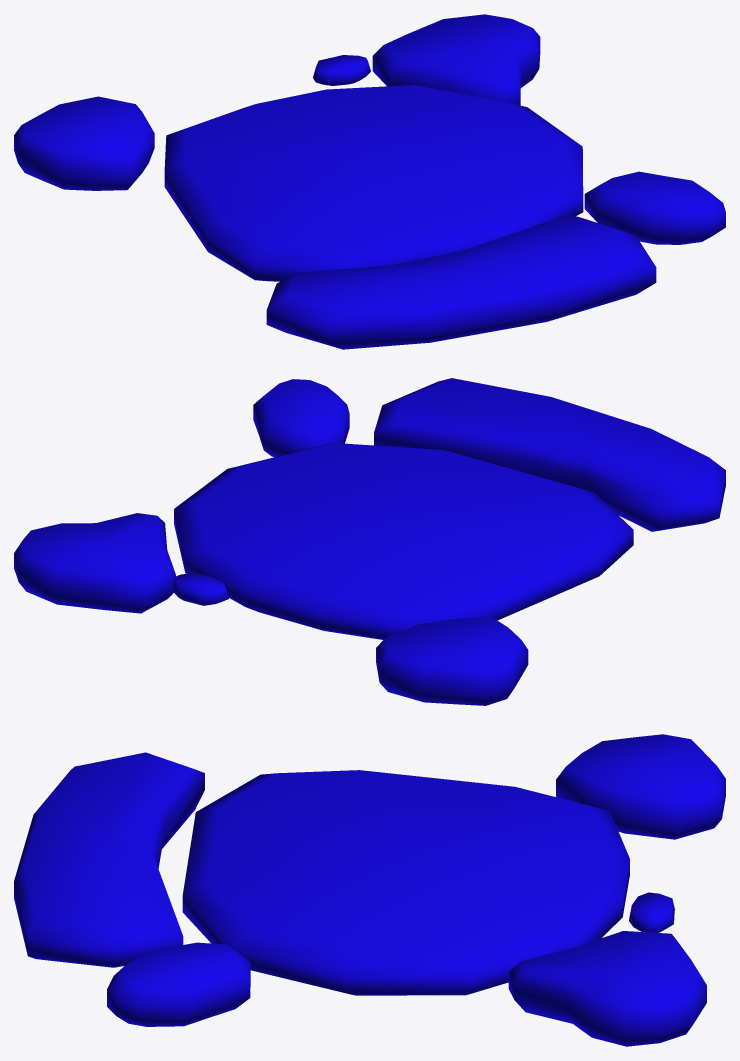
Rendered from Bstone2.fbx.
3 views of the same model, one above another, from view 1: azimuth 30°, elevation 25°; view 2: azimuth 150°, elevation 25°; view 3: azimuth 270°, elevation 25° (orthographic). The views are drawn at different scales.
Parts seen in each view (by area): view 1: 2_set_stones_lowpoly.001; view 2: 2_set_stones_lowpoly.001; view 3: 2_set_stones_lowpoly.001.
Part boxes in pixels (box(x1,y1,x2,y2)): 2_set_stones_lowpoly.001: box(14, 14, 725, 349); 2_set_stones_lowpoly.001: box(14, 378, 725, 705); 2_set_stones_lowpoly.001: box(14, 734, 725, 1046).
Size of the model in its own units: 207 by 14.26 by 223.
